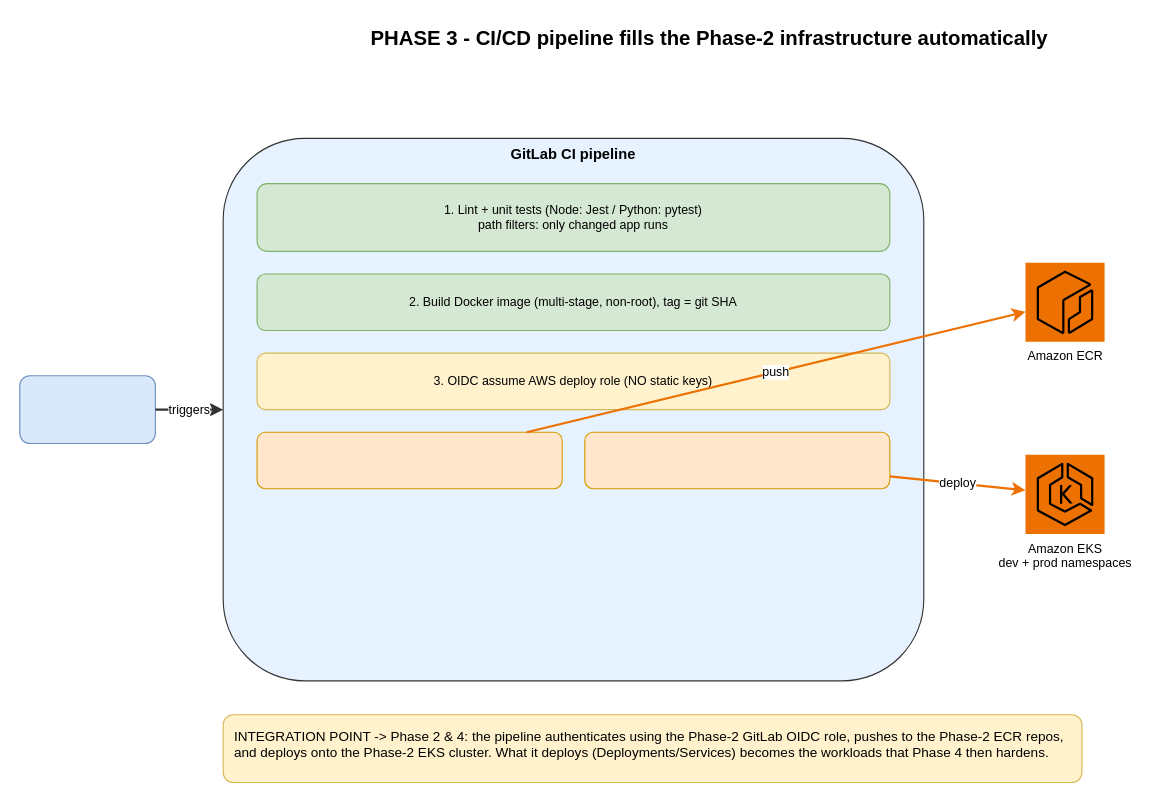
This 1170x802 diagram has some shape labels left out. Here are the shapes that lost their labels. From the top down, the centre of each, then its label:
(x=87, y=409): Developer git push
(x=409, y=460): 4. Push image to ECR
(x=737, y=460): 5. Deploy to EKS (dev auto) prod = manual approval gate
